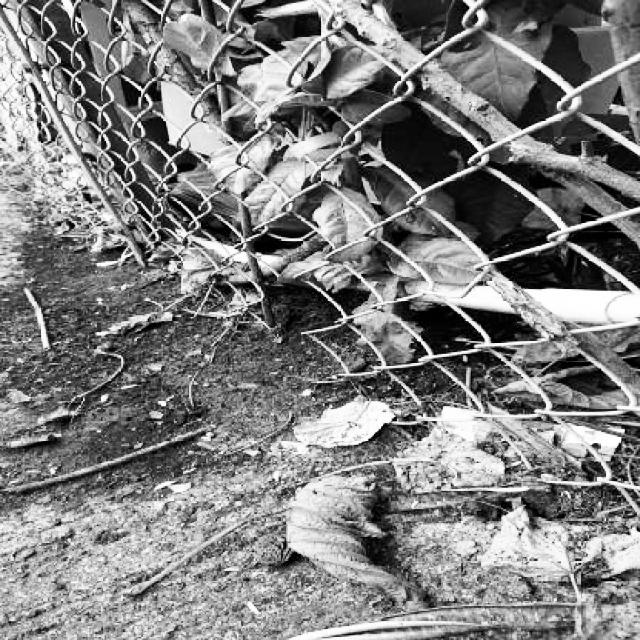fences: (2, 0, 640, 337)
